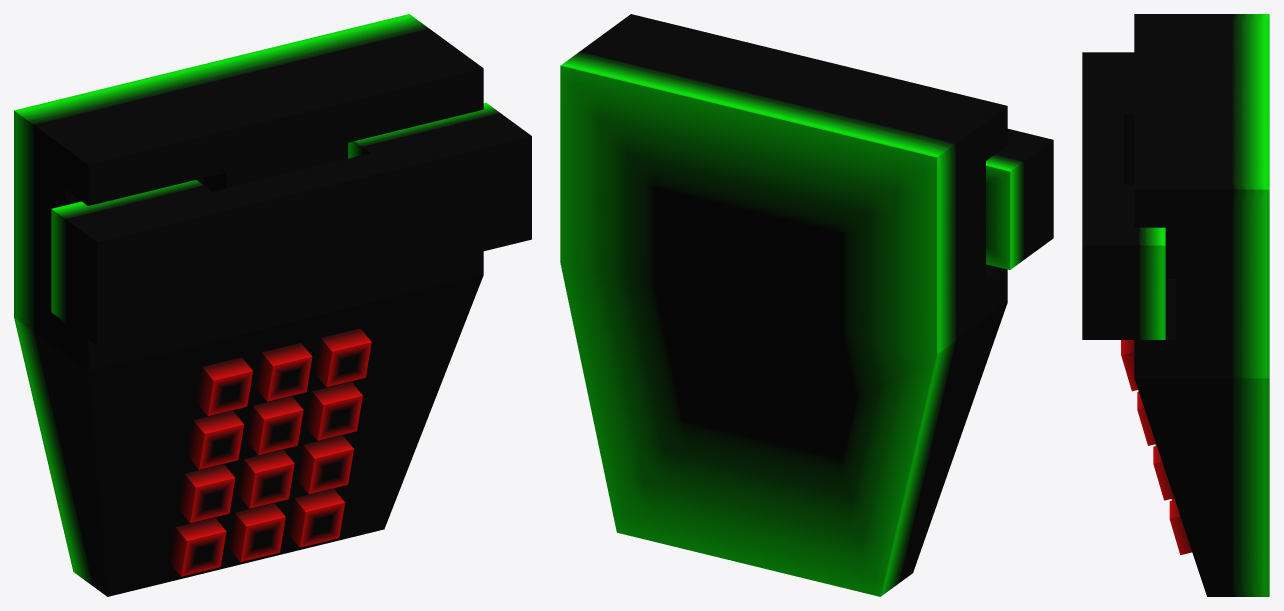
Rendered from fon.fbx.
The picture shows the model from 3 angles, left to right: view 1: azimuth 30°, elevation 25°; view 2: azimuth 150°, elevation 25°; view 3: azimuth 270°, elevation 25°; orthographic projection. The views are drawn at different scales.
Visible parts, largest first — view 1: Cube; view 2: Cube; view 3: Cube.
Part boxes in pixels (x1,y1,x2,y2): Cube: (14,14,531,596); Cube: (560,14,1053,596); Cube: (1082,14,1269,596).
Size of the model in its own units: 0.22 by 0.23 by 0.09.
Materials: 1 (1 with a texture image).
